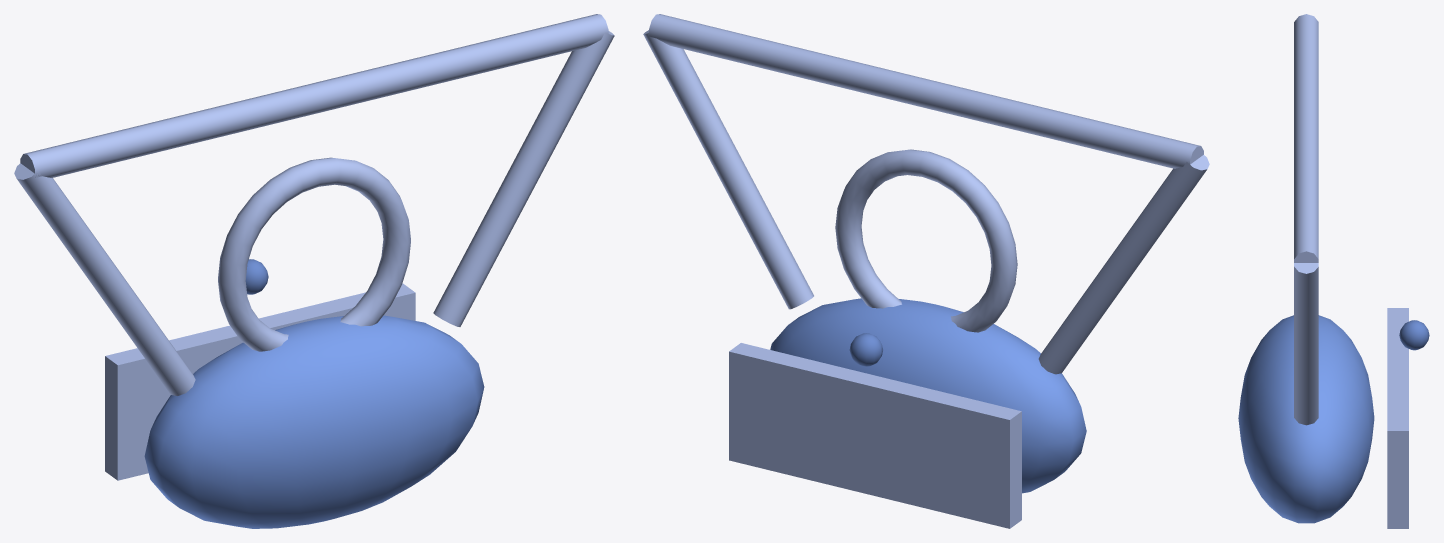
File: VM-ACC-EXT174.glb
3 views of the same model, side by side, from view 1: azimuth 30°, elevation 25°; view 2: azimuth 150°, elevation 25°; view 3: azimuth 270°, elevation 25° (orthographic). The views are drawn at different scales.
Parts seen in each view (by area): view 1: Bolso Prada para Mujer; view 2: Bolso Prada para Mujer; view 3: Bolso Prada para Mujer.
Boxes of the visible parts, x1,y1,x2,y2 form: Bolso Prada para Mujer: [14, 14, 614, 528]; Bolso Prada para Mujer: [643, 14, 1209, 528]; Bolso Prada para Mujer: [1238, 14, 1429, 528].
Size of the model in its own units: 0.5402 by 0.3745 by 0.177.
